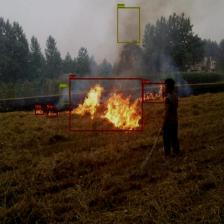fire: (69, 78, 142, 131), (143, 83, 166, 103), (46, 108, 58, 116), (35, 107, 44, 115)
smoke: (117, 7, 140, 43), (60, 86, 69, 104)
